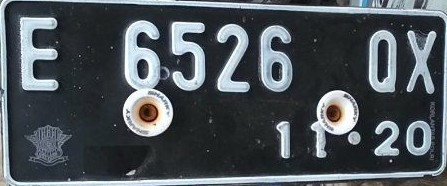plate: (1, 1, 447, 184)
